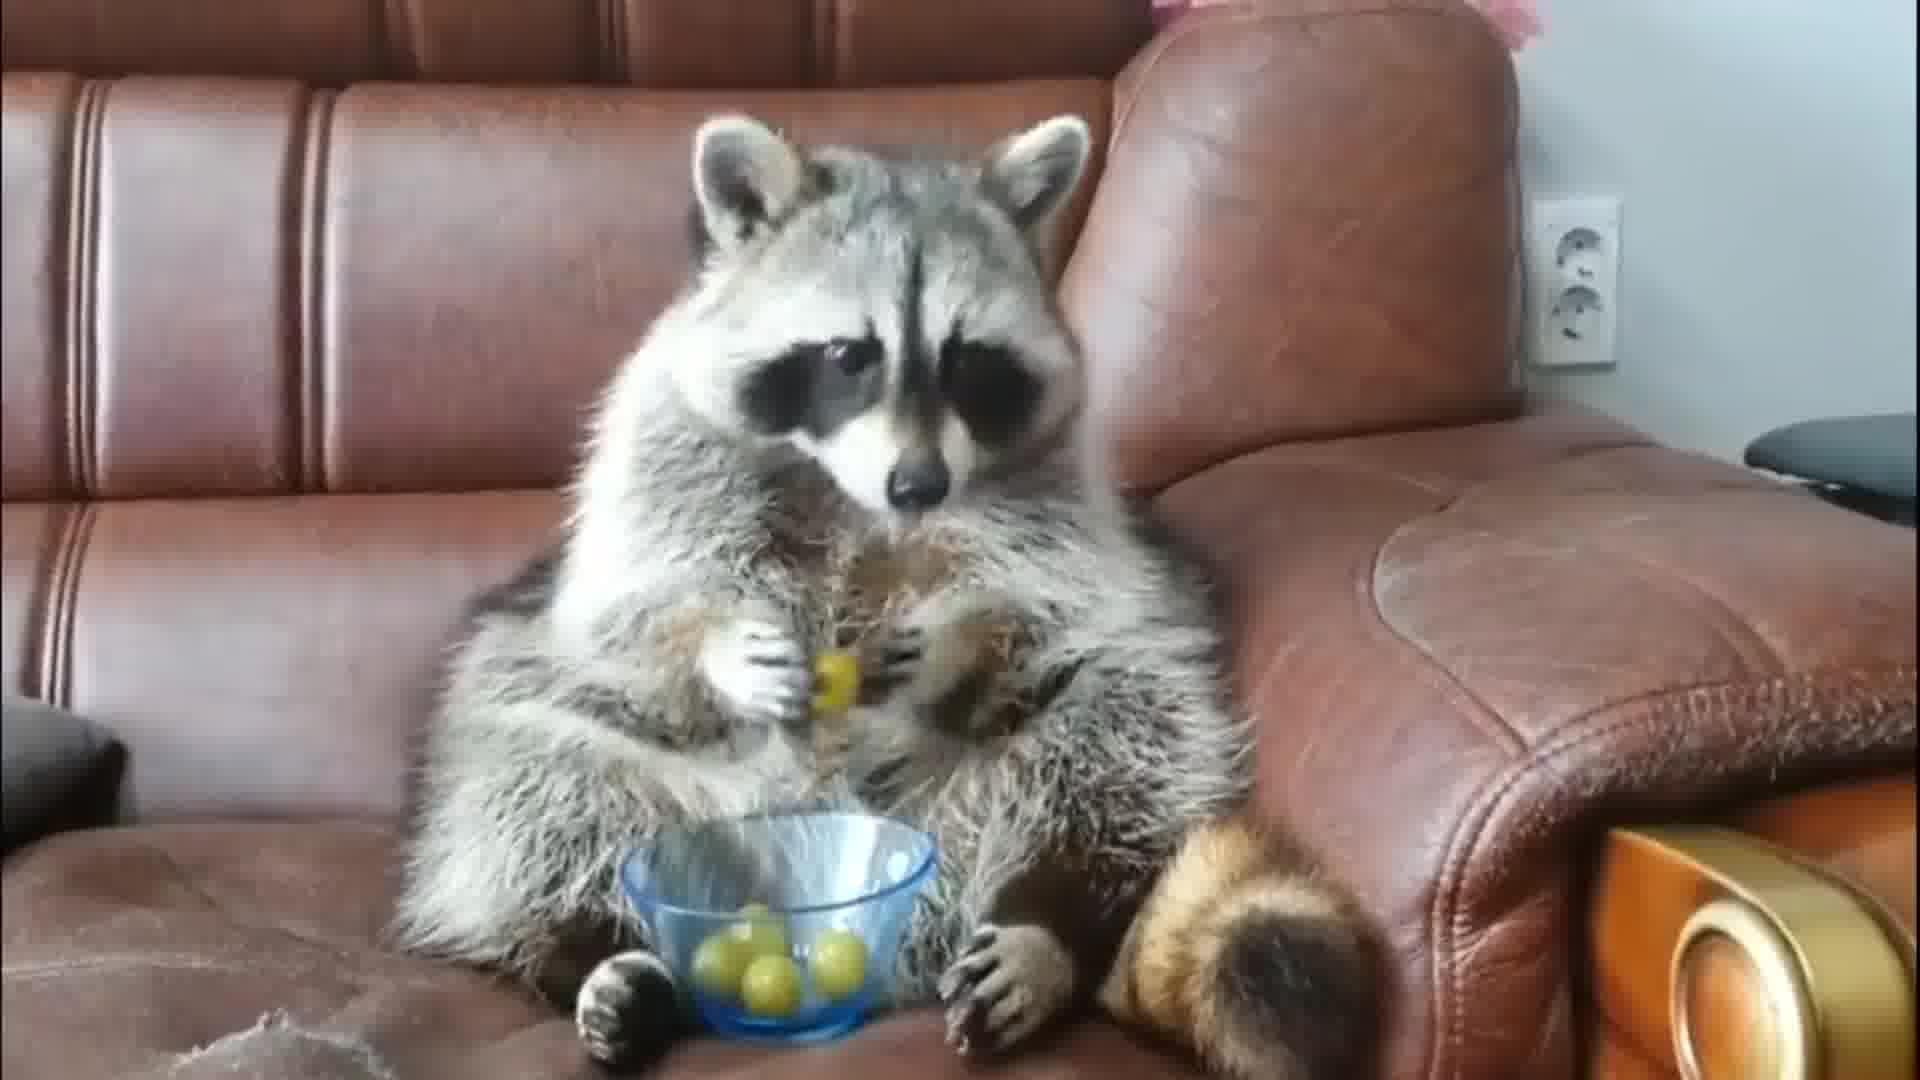raccoon: (397, 114, 1381, 1080)
